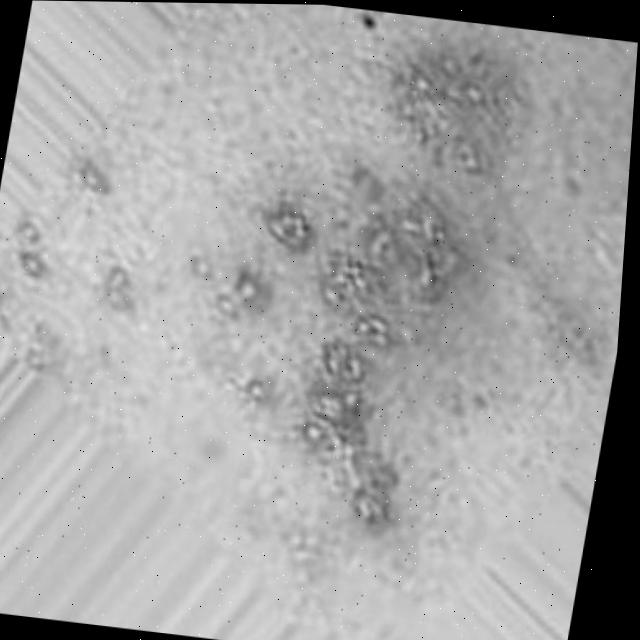Shingles: (155, 12, 509, 546), (8, 226, 58, 293), (94, 264, 139, 314), (77, 162, 115, 197)
